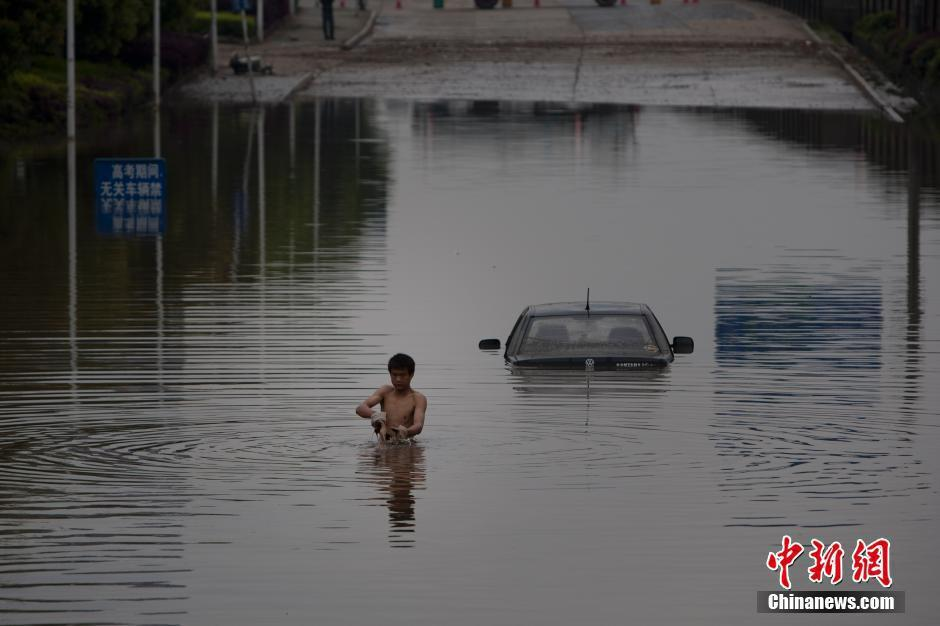water: (0, 348, 939, 624), (0, 99, 938, 354)
